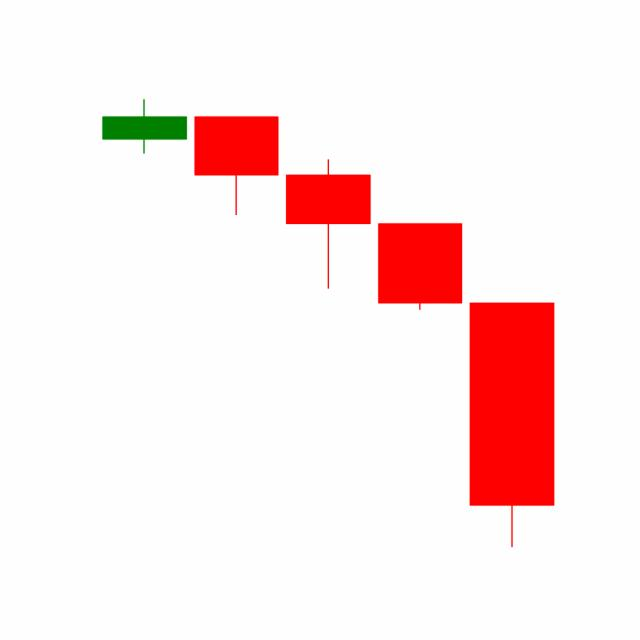Marubozu: (373, 222, 467, 310)
